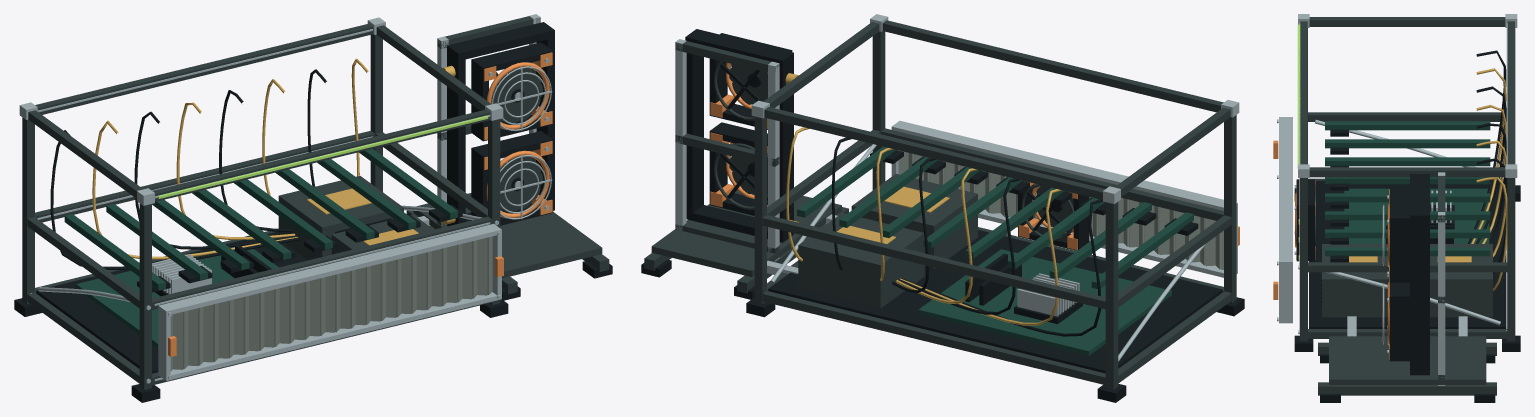
Rendered from rig-runtime-8-pleated-air.glb.
The picture shows the model from 3 angles, left to right: view 1: azimuth 30°, elevation 25°; view 2: azimuth 150°, elevation 25°; view 3: azimuth 270°, elevation 25°; orthographic projection. The views are drawn at different scales.
Parts seen in each view (by area): view 1: Anodized graphite (×4), Filter fibres, Brushed aluminium (×5), Rubber and ABS (×4), Circuit board, Industrial orange (×2), rig-runtime-8-pleated-air, Contacts, slot-cable-1, slot-cable-2, slot-cable-3, slot-cable-4 (+1 smaller); view 2: Anodized graphite (×3), Rubber and ABS (×5), Circuit board, Brushed aluminium (×3), Filter fibres, Industrial orange (×2), Contacts, slot-cable-1, slot-cable-2, slot-cable-3, slot-cable-4, slot-cable-5; view 3: Anodized graphite (×2), Rubber and ABS (×6), Circuit board, Brushed aluminium (×3), rig-runtime-8-pleated-air, slot-cable-1, slot-cable-2, slot-cable-3, Contacts, slot-cable-8, slot-cable-4, slot-cable-5 (+2 smaller).
Boxes of the visible parts, bbox=[...] form: Anodized graphite (×4): bbox=[22, 16, 609, 389]; Filter fibres: bbox=[170, 236, 492, 371]; Brushed aluminium (×5): bbox=[19, 14, 552, 383]; Rubber and ABS (×4): bbox=[14, 22, 554, 402]; Circuit board: bbox=[64, 149, 457, 348]; Industrial orange (×2): bbox=[484, 52, 552, 218]; rig-runtime-8-pleated-air: bbox=[158, 115, 488, 198]; Contacts: bbox=[307, 188, 418, 245]; slot-cable-1: bbox=[50, 130, 299, 269]; slot-cable-2: bbox=[92, 120, 297, 259]; slot-cable-3: bbox=[134, 111, 296, 249]; slot-cable-4: bbox=[176, 102, 295, 239]; Anodized graphite (×3): bbox=[644, 20, 1236, 389]; Rubber and ABS (×5): bbox=[685, 29, 1244, 402]; Circuit board: bbox=[797, 146, 1193, 355]; Brushed aluminium (×3): bbox=[675, 14, 1239, 361]; Filter fibres: bbox=[898, 150, 1223, 269]; Industrial orange (×2): bbox=[710, 132, 1077, 250]; Contacts: bbox=[836, 186, 949, 244]; slot-cable-1: bbox=[901, 199, 1102, 336]; slot-cable-2: bbox=[900, 189, 1061, 325]; slot-cable-3: bbox=[898, 178, 1019, 314]; slot-cable-4: bbox=[896, 168, 977, 303]; slot-cable-5: bbox=[892, 158, 935, 293]; Anodized graphite (×2): bbox=[1300, 17, 1515, 395]; Rubber and ABS (×6): bbox=[1294, 129, 1520, 402]; Circuit board: bbox=[1325, 121, 1490, 256]; Brushed aluminium (×3): bbox=[1279, 14, 1517, 385]; rig-runtime-8-pleated-air: bbox=[1297, 24, 1300, 168]; slot-cable-1: bbox=[1467, 50, 1506, 243]; slot-cable-2: bbox=[1471, 68, 1506, 243]; slot-cable-3: bbox=[1475, 86, 1506, 243]; Contacts: bbox=[1349, 256, 1471, 262]; slot-cable-8: bbox=[1476, 177, 1507, 290]; slot-cable-4: bbox=[1476, 105, 1506, 243]; slot-cable-5: bbox=[1476, 123, 1506, 243].
Size of the model in its own units: 8.02 by 3.32 by 4.01.
